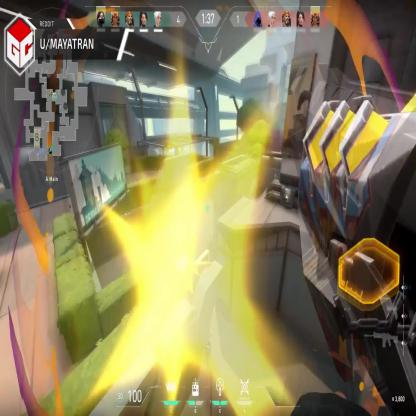enemy: (209, 233, 213, 252)
enemy_head: (211, 233, 212, 236)
